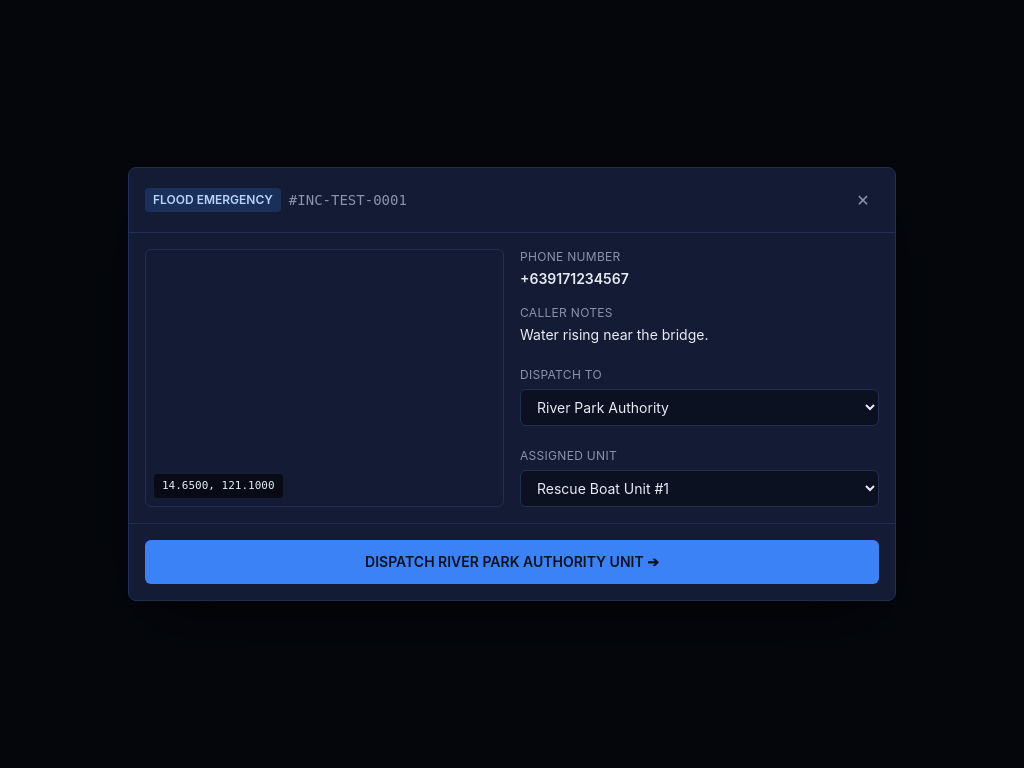
Scenario: TriageModal — dynamic station loading › shows only active units of the selected station and resets on station change
Switching stations resets the unit to the new station's first unit.
Select "Nangka Flood Outpost" in the dropdown with id "station": (700, 408) [520, 389, 879, 426]
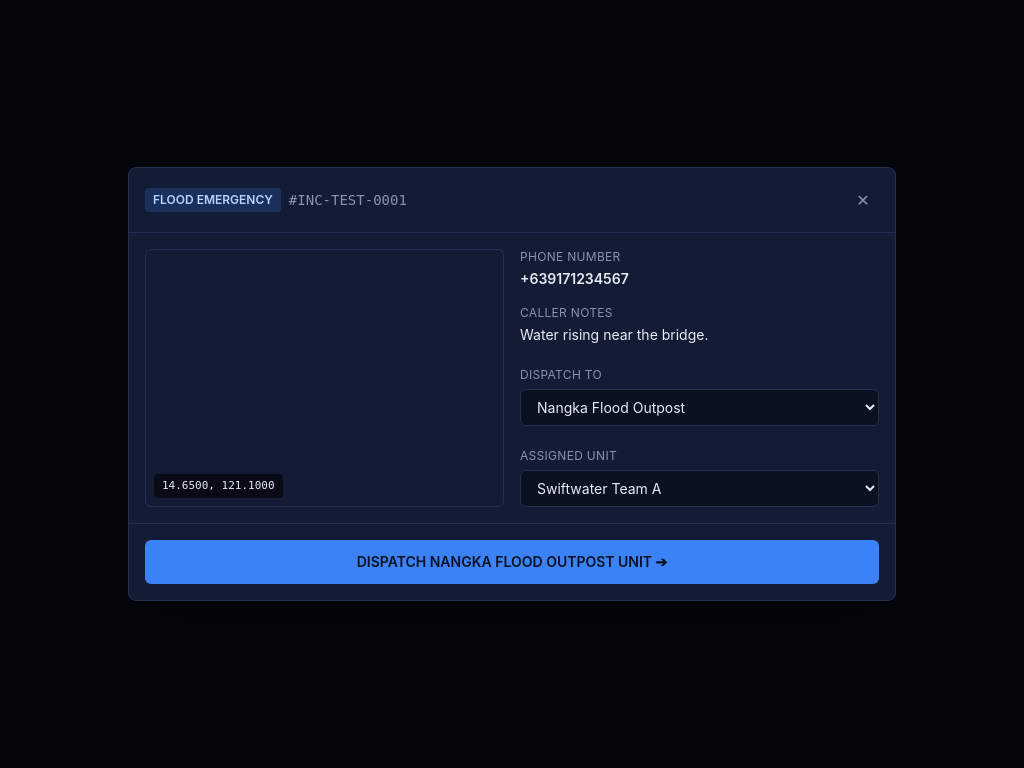
Now the dropdown with id "unit" shows "Swiftwater Team A", box [520, 470, 879, 507]
